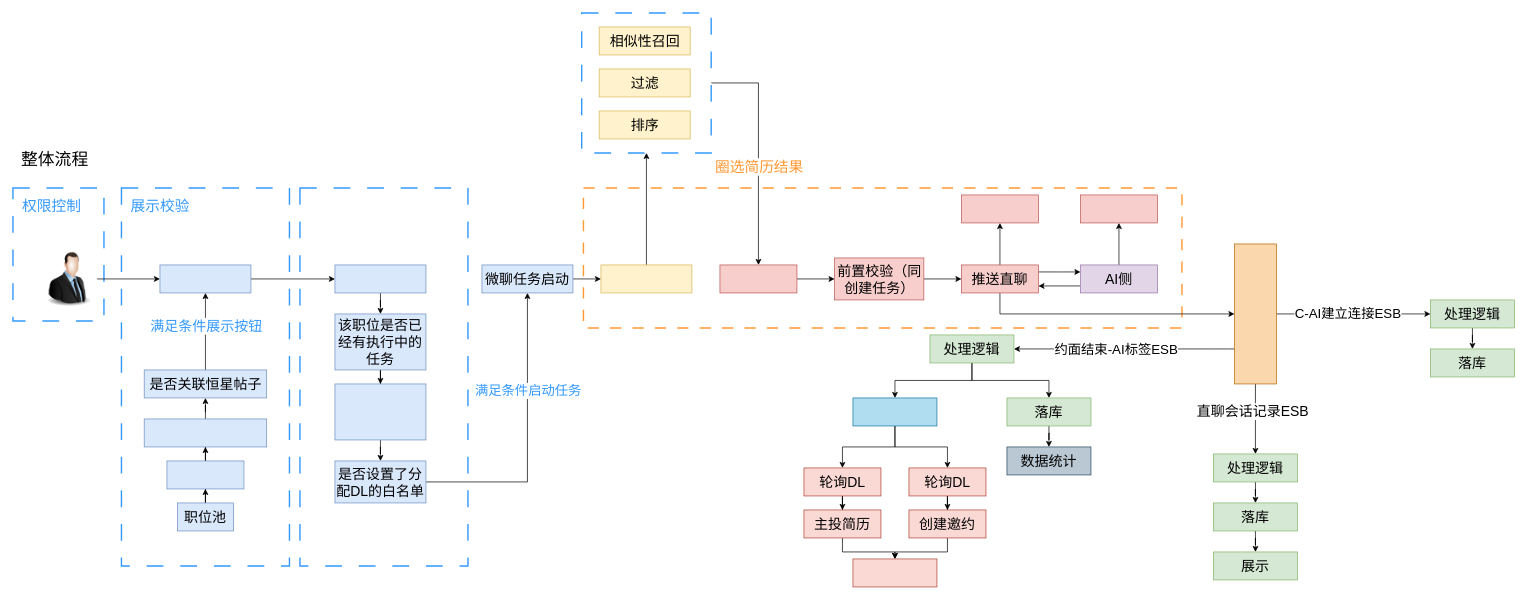
Some shapes in this 1527 by 599 pixel diagram are drawn without their labels. Each missing label, with the box of its shape:
AI标签解析: (852, 397, 937, 426)
MF- INFO: (961, 194, 1038, 223)
MF-FAQ: (1080, 194, 1157, 223)
WMB: (1234, 243, 1276, 384)
创建微聊任务: (334, 264, 426, 293)
恒星简历圈选: (600, 264, 692, 293)
是否需要简历审核: (144, 418, 267, 447)
沟通记录: (852, 558, 937, 587)
组装数据: (719, 264, 797, 293)
职位在当前时间之后是否有面试场次: (334, 383, 426, 440)
职位白名单: (166, 460, 244, 489)
项目池-已接单: (159, 264, 251, 293)
